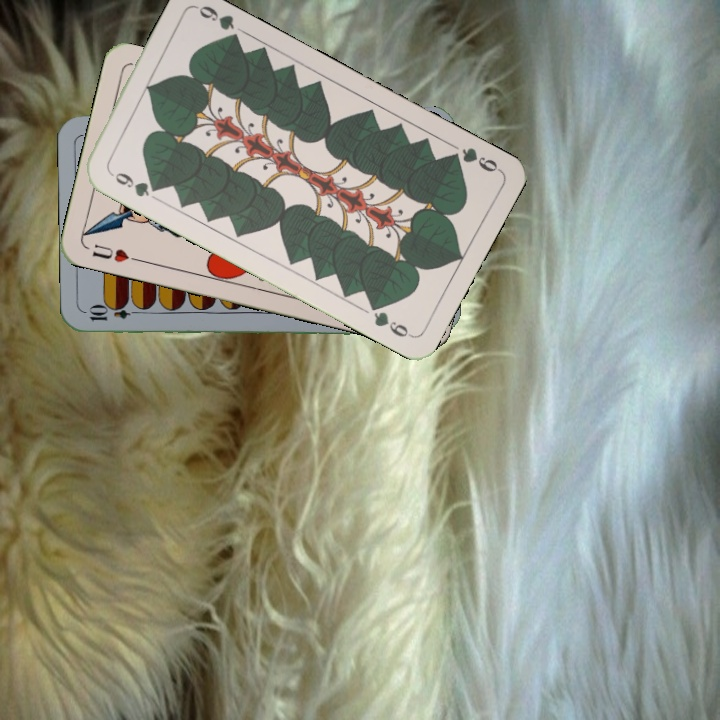E10: (85, 305, 144, 323)
G9: (104, 166, 162, 200), (443, 143, 503, 175)
HU: (88, 240, 142, 265)
